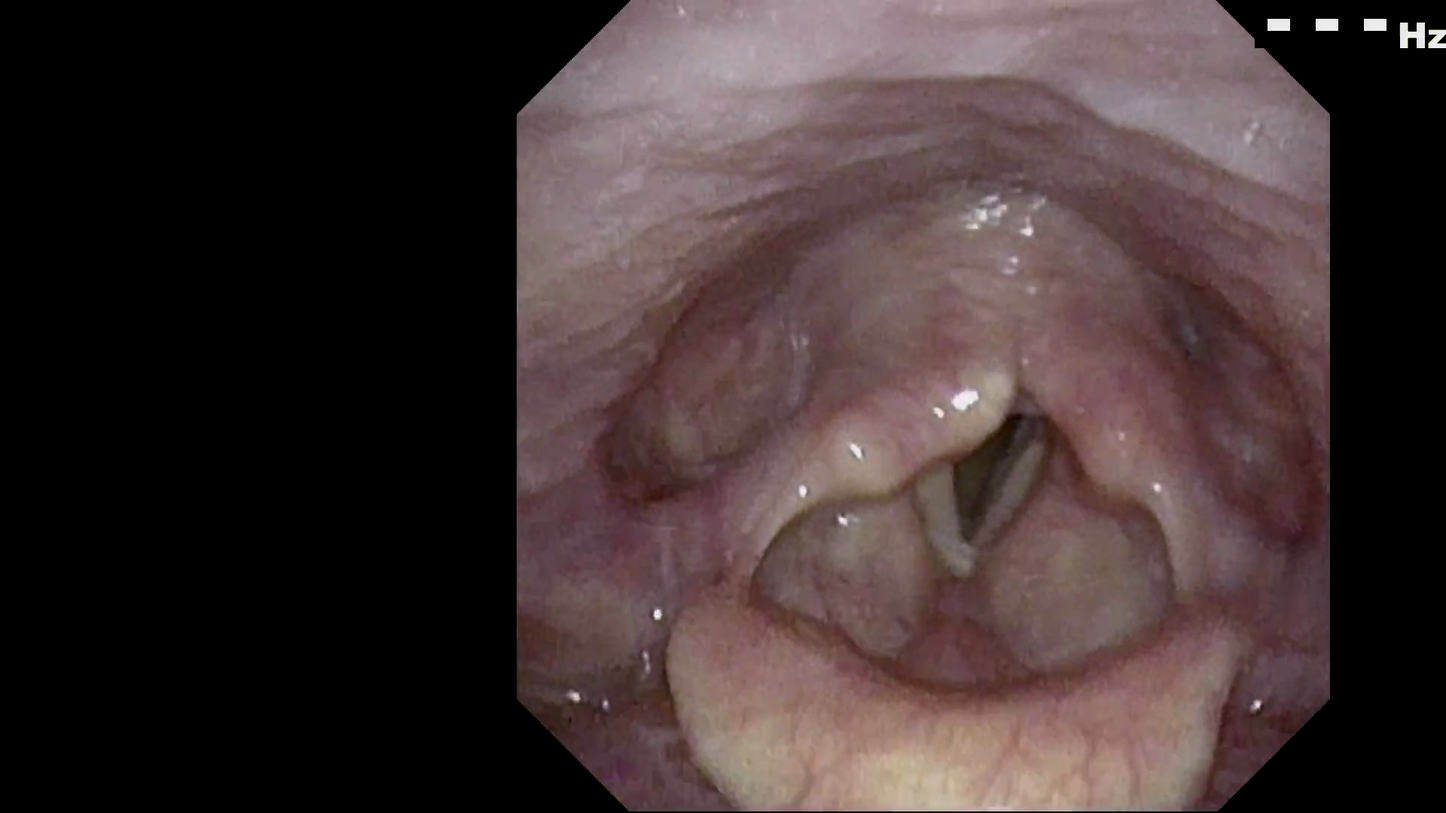epiglottis: (664, 630, 1227, 786)
trachea: (904, 396, 1069, 568)
